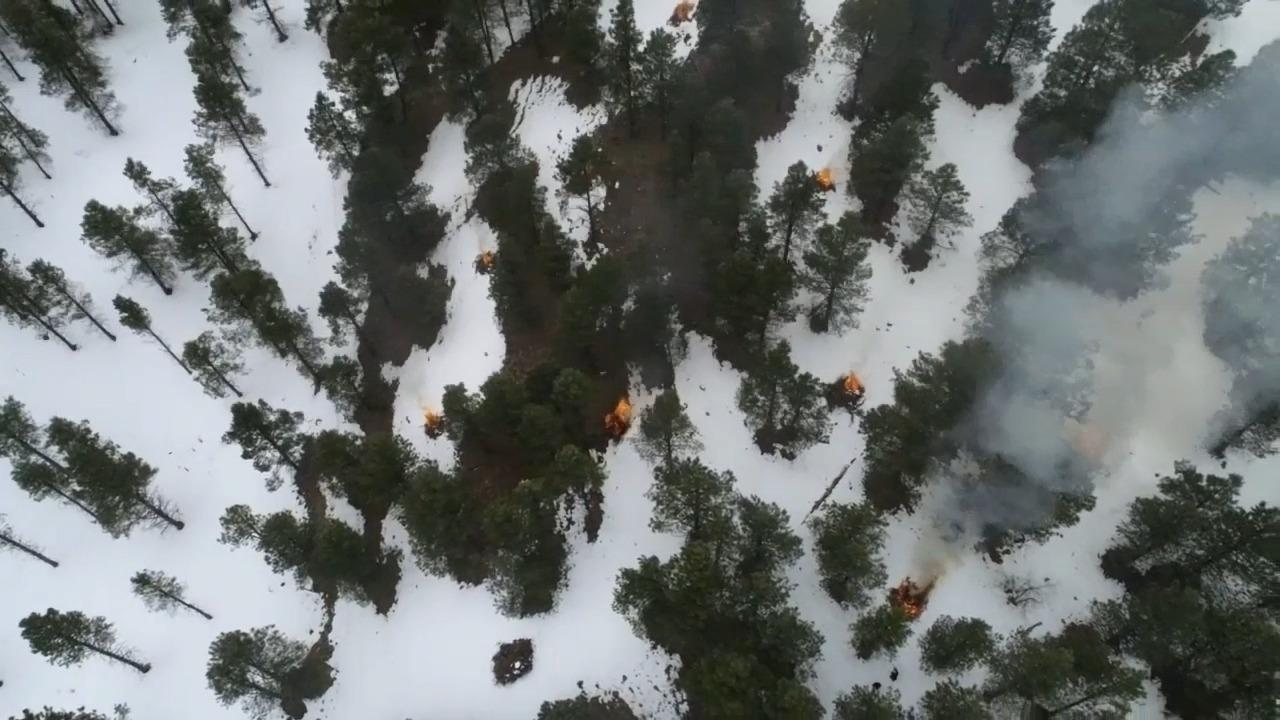fire: (890, 573, 937, 622), (604, 390, 644, 444), (837, 371, 868, 405), (810, 164, 839, 196)
smoke: (993, 302, 1280, 491), (1047, 79, 1280, 306)
